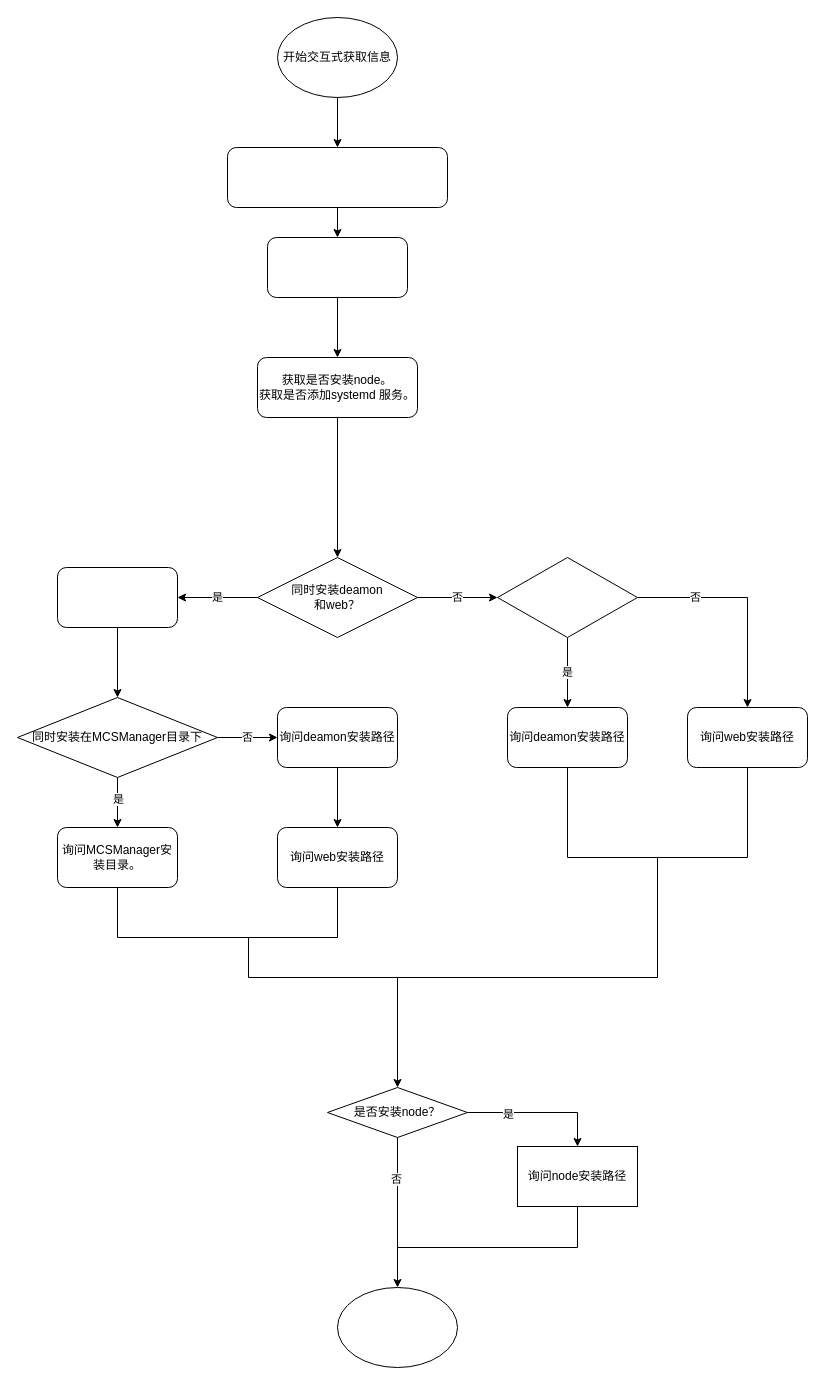
This 825x1385 diagram has some shape labels left out. Here are the shapes that lost their labels. From the top down, the centre of each, then its label:
the point at 337,177: 获取安装给哪个用户。 所有用户|root用户|当前用户|指定用户
the point at 337,267: 获取安装哪些组件。 全部安装|web|deamon
the point at 117,597: 询问是否安装到mcsmanager目录下。
the point at 567,597: 是否安装deamon？
the point at 397,1327: 结束
